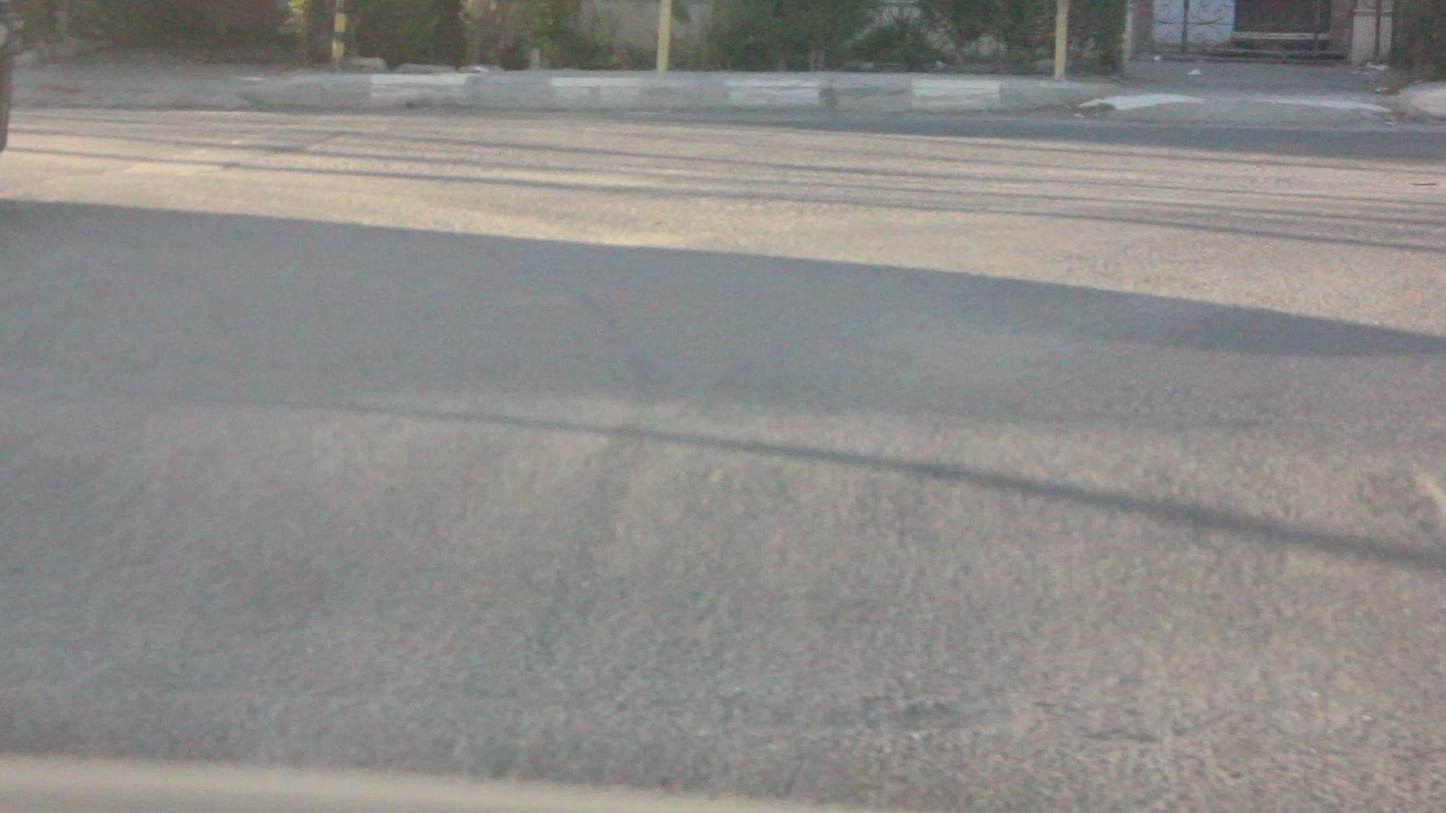Bump: (0, 391, 1446, 813)
